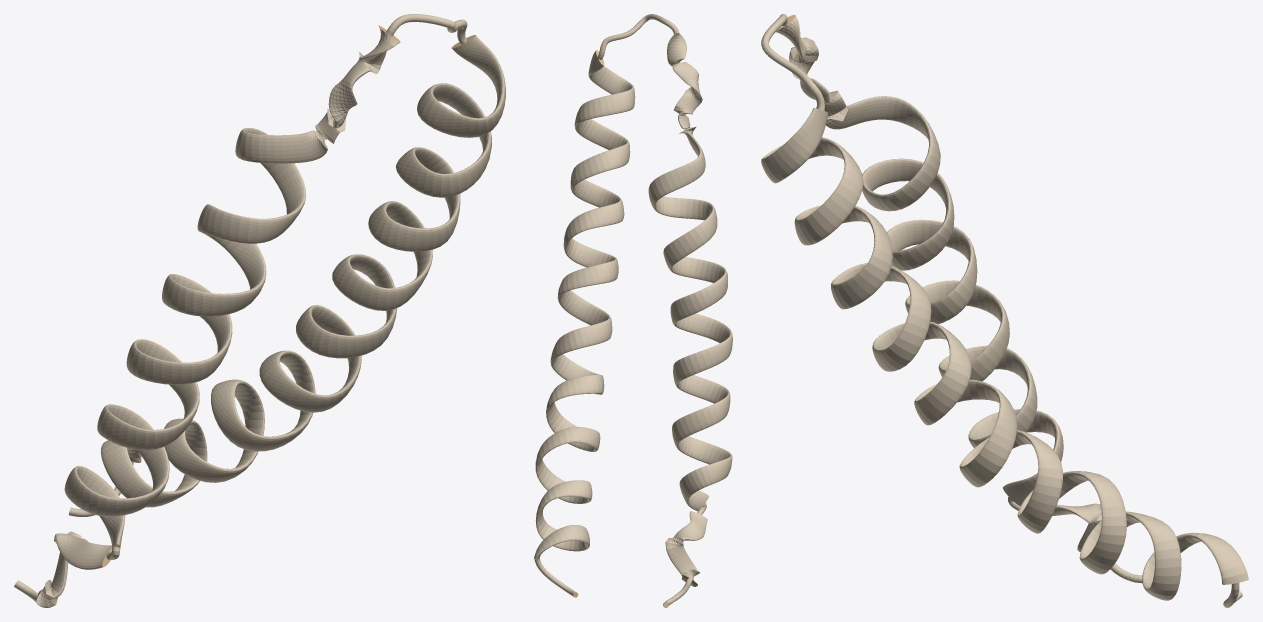
The model's file is HelixSheetHelix.dae.
The picture shows the model from 3 angles, left to right: view 1: azimuth 30°, elevation 25°; view 2: azimuth 150°, elevation 25°; view 3: azimuth 270°, elevation 25°; orthographic projection. The views are drawn at different scales.
Visible parts, largest first — view 1: Shape_IndexedTriangleStripSet_073; view 2: Shape_IndexedTriangleStripSet_073; view 3: Shape_IndexedTriangleStripSet_073.
Boxes of the visible parts, <box> form: Shape_IndexedTriangleStripSet_073: <box>14,14,505,607</box>; Shape_IndexedTriangleStripSet_073: <box>534,14,732,607</box>; Shape_IndexedTriangleStripSet_073: <box>761,14,1248,607</box>.
Size of the model in its own units: 22.61 by 31.11 by 46.23.
